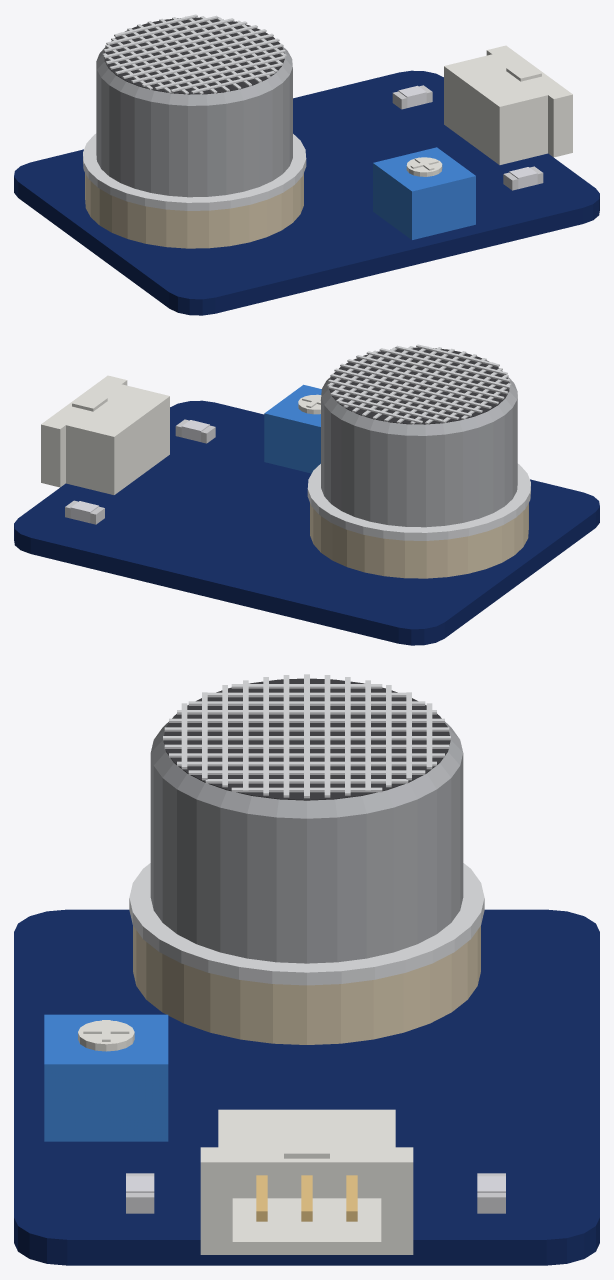
Rendered from gas.glb.
3 renders of one model, top to bottom at view 1: azimuth 30°, elevation 25°; view 2: azimuth 150°, elevation 25°; view 3: azimuth 270°, elevation 25°, orthographic. The views are drawn at different scales.
Visible parts, largest first — view 1: gas_pcb, gas_mq_cap, gas_xh, gas_mq_mesh, gas_mq_base, gas_pot, gas_mq_top, gas_mq_flange, gas_pot_screw, gas_led_power, gas_led_signal; view 2: gas_pcb, gas_mq_cap, gas_xh, gas_mq_mesh, gas_mq_base, gas_mq_top, gas_mq_flange, gas_pot, gas_led_signal, gas_led_power, gas_pot_screw; view 3: gas_pcb, gas_mq_cap, gas_xh, gas_mq_base, gas_mq_mesh, gas_pot, gas_mq_top, gas_mq_flange, gas, gas_pot_screw.
Part boxes in pixels (bbox=[...]): gas_pcb: bbox=[14, 70, 599, 315]; gas_mq_cap: bbox=[96, 46, 292, 197]; gas_xh: bbox=[444, 45, 572, 164]; gas_mq_mesh: bbox=[102, 14, 286, 94]; gas_mq_base: bbox=[85, 173, 303, 248]; gas_pot: bbox=[373, 147, 475, 239]; gas_mq_top: bbox=[104, 17, 284, 94]; gas_mq_flange: bbox=[83, 133, 306, 210]; gas_pot_screw: bbox=[406, 157, 442, 176]; gas_led_power: bbox=[509, 167, 537, 188]; gas_led_signal: bbox=[398, 85, 426, 107]; gas_pcb: bbox=[14, 400, 599, 645]; gas_mq_cap: bbox=[321, 376, 517, 527]; gas_xh: bbox=[41, 375, 169, 494]; gas_mq_mesh: bbox=[327, 344, 511, 424]; gas_mq_base: bbox=[310, 503, 528, 578]; gas_mq_top: bbox=[329, 347, 509, 424]; gas_mq_flange: bbox=[307, 463, 530, 540]; gas_pot: bbox=[264, 384, 321, 473]; gas_led_signal: bbox=[70, 501, 98, 523]; gas_led_power: bbox=[181, 420, 209, 441]; gas_pot_screw: bbox=[298, 394, 321, 414]; gas_pcb: bbox=[14, 909, 599, 1265]; gas_mq_cap: bbox=[150, 718, 463, 963]; gas_xh: bbox=[200, 1109, 413, 1254]; gas_mq_base: bbox=[133, 926, 480, 1044]; gas_mq_mesh: bbox=[163, 674, 450, 798]; gas_pot: bbox=[44, 1014, 168, 1141]; gas_mq_top: bbox=[163, 678, 450, 800]; gas_mq_flange: bbox=[129, 863, 484, 985]; gas: bbox=[256, 1175, 357, 1221]; gas_pot_screw: bbox=[78, 1020, 134, 1051].
Bounding box in the file's own units: 0.046 × 0.0188 × 0.033.
